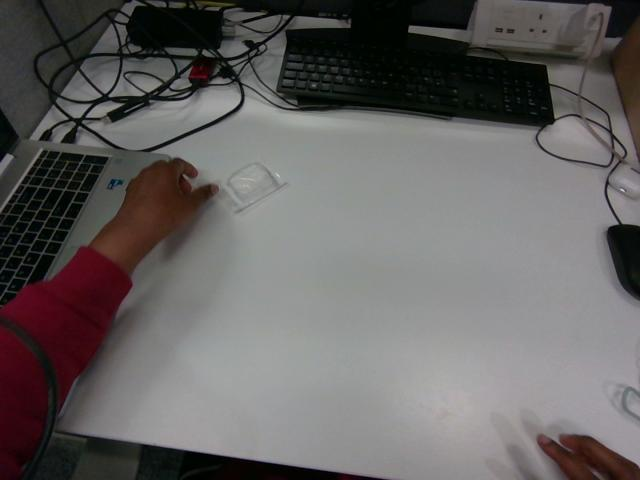gauze: (220, 163, 285, 212)
